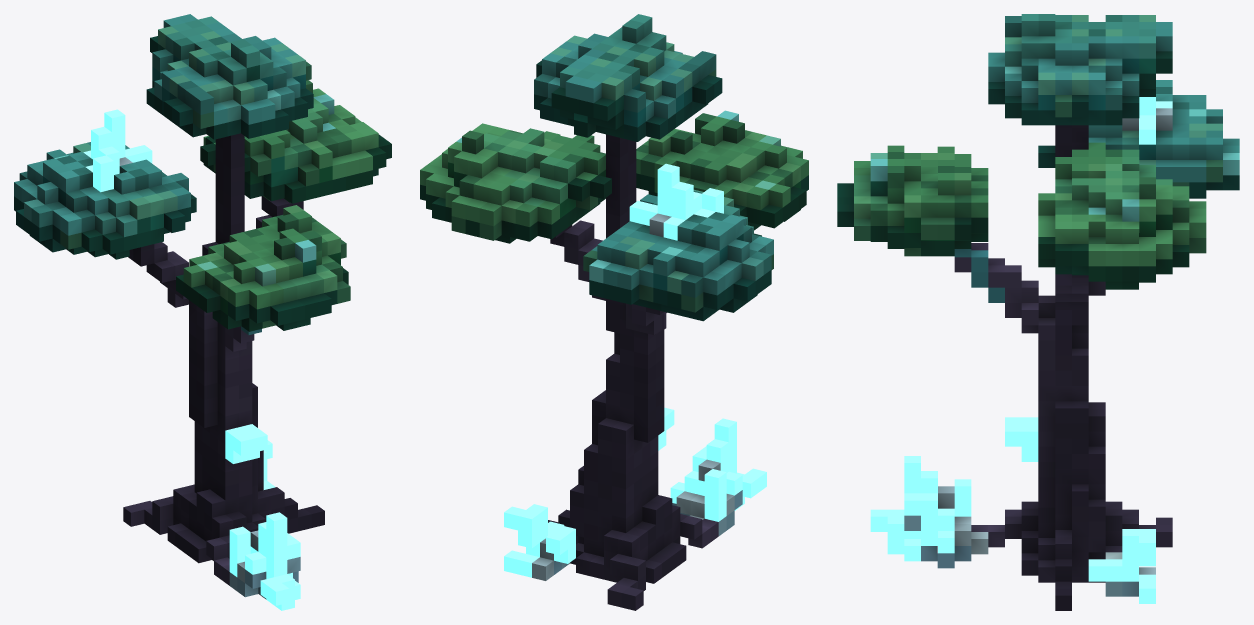
File: tree-crystal-m.glb
The picture shows the model from 3 angles, left to right: view 1: azimuth 30°, elevation 25°; view 2: azimuth 150°, elevation 25°; view 3: azimuth 270°, elevation 25°; orthographic projection. The views are drawn at different scales.
Visible parts, largest first — view 1: TREE_CRYSTAL_M__details; view 2: TREE_CRYSTAL_M__details; view 3: TREE_CRYSTAL_M__details.
Boxes of the visible parts, x1=… form: TREE_CRYSTAL_M__details: x1=14, y1=14, x2=391, y2=610; TREE_CRYSTAL_M__details: x1=420, y1=14, x2=808, y2=610; TREE_CRYSTAL_M__details: x1=837, y1=14, x2=1239, y2=610.
Bounding box in the file's own units: 1.33 × 2 × 1.33.
